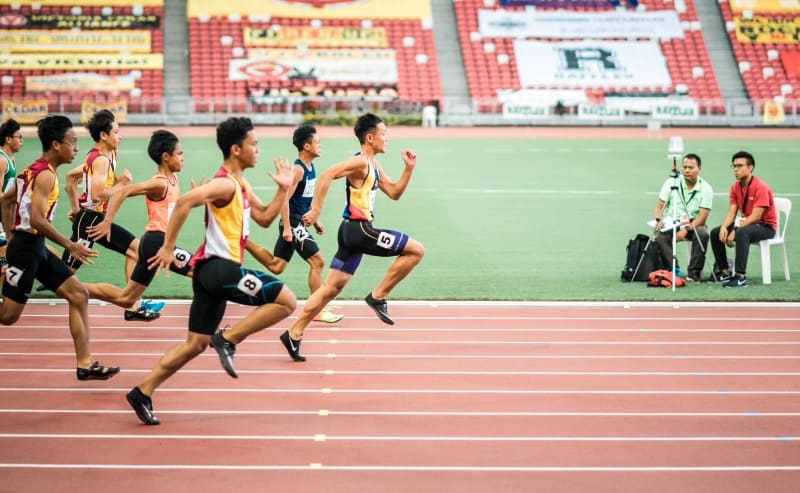person: (140, 118, 258, 419), (282, 114, 425, 360), (0, 120, 74, 382), (127, 128, 182, 323), (267, 125, 324, 312), (711, 154, 778, 287), (77, 116, 120, 266), (654, 154, 705, 278), (0, 118, 25, 255)
